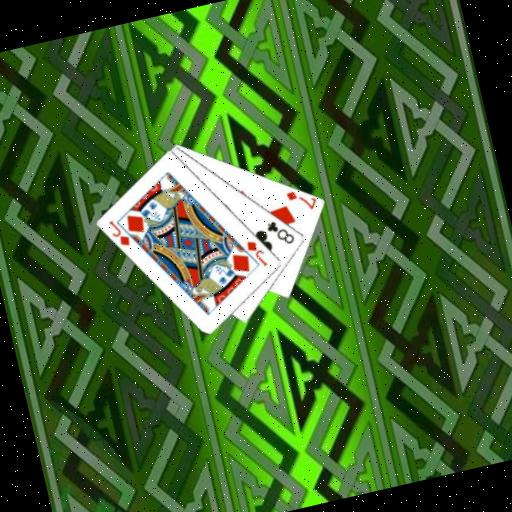7D: (283, 183, 320, 217)
8C: (262, 214, 297, 250)
JD: (242, 235, 270, 272), (105, 214, 133, 251)
